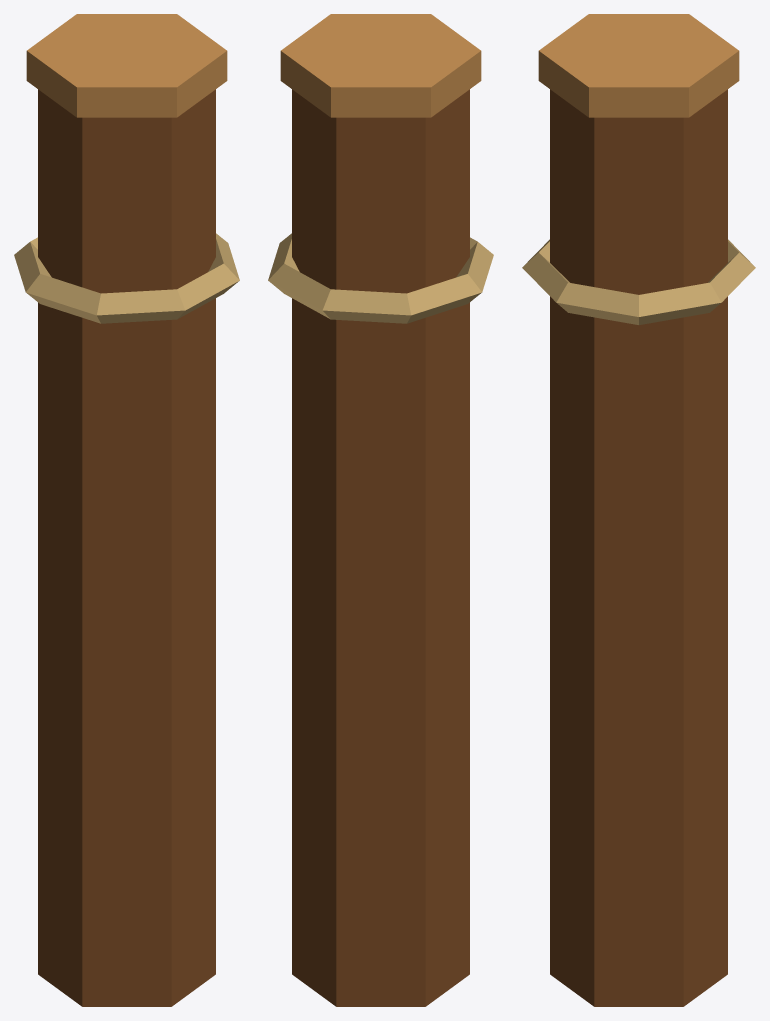
File: dock_post.glb
3 renders of one model, left to right at view 1: azimuth 30°, elevation 25°; view 2: azimuth 150°, elevation 25°; view 3: azimuth 270°, elevation 25°, orthographic.
Visible parts, largest first — view 1: dock_post; view 2: dock_post; view 3: dock_post.
Part boxes in pixels (x1,y1,x2,y2): dock_post: [14, 14, 239, 1006]; dock_post: [268, 14, 493, 1006]; dock_post: [522, 14, 755, 1006].
Bounding box in the file's own units: 0.21 × 0.915 × 0.21.
